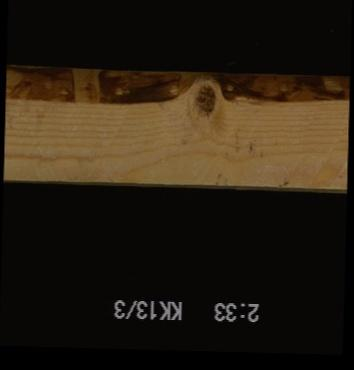sound_knot: (188, 84, 217, 116)
wave: (6, 67, 178, 106), (208, 70, 348, 111)
